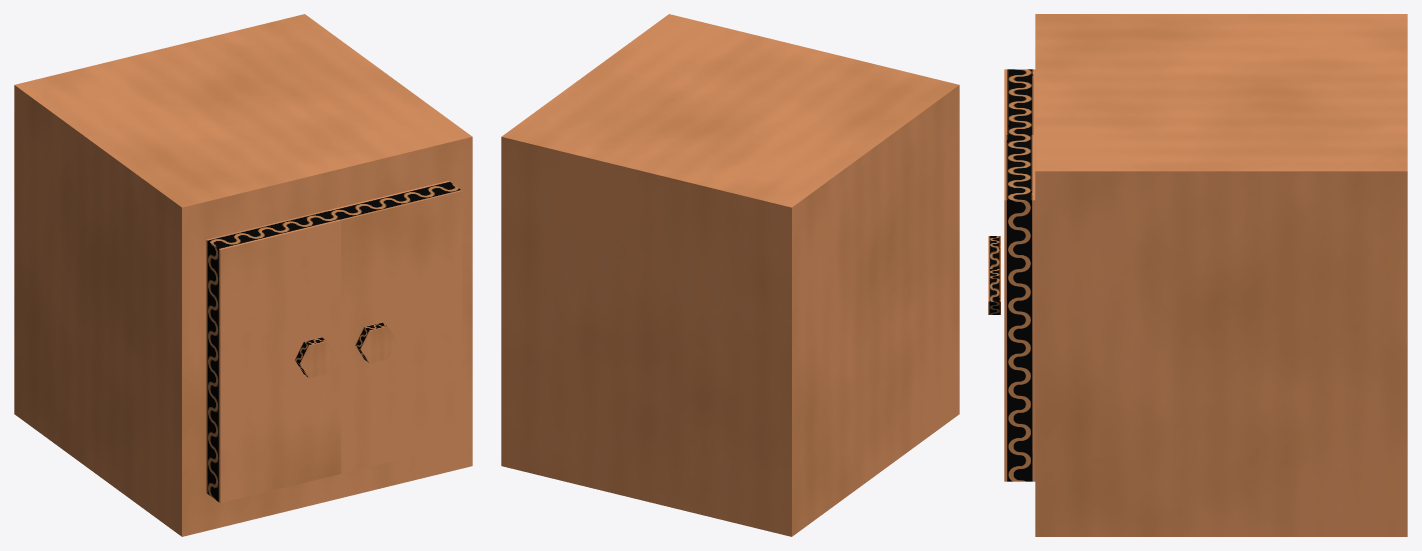
File: M_CardboardKitchen_Cupboard1.fbx
3 views of the same model, side by side, from view 1: azimuth 30°, elevation 25°; view 2: azimuth 150°, elevation 25°; view 3: azimuth 270°, elevation 25° (orthographic). The views are drawn at different scales.
Visible parts, largest first — view 1: M_CardboardKitchen_Cupboard1, Door_Left, Door_Right; view 2: M_CardboardKitchen_Cupboard1; view 3: M_CardboardKitchen_Cupboard1, Door_Right, Door_Left.
Part boxes in pixels (box(x1,y1,x2,y2)): M_CardboardKitchen_Cupboard1: box(14, 14, 472, 536); Door_Left: box(206, 210, 341, 503); Door_Right: box(327, 180, 462, 473); M_CardboardKitchen_Cupboard1: box(501, 14, 959, 536); M_CardboardKitchen_Cupboard1: box(1035, 14, 1407, 536); Door_Right: box(988, 135, 1035, 481); Door_Left: box(988, 69, 1035, 268).
Bounding box in the file's own units: 3 × 3.25 × 3.38.
1 material, 1 textured.
